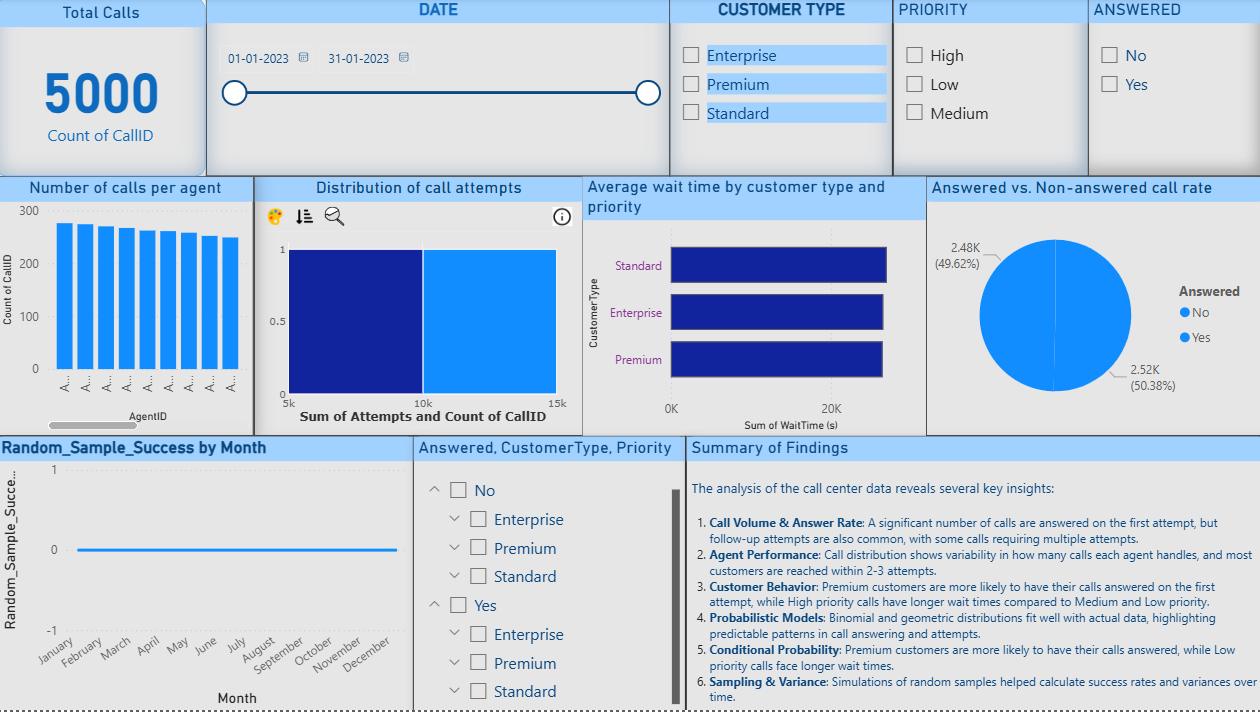

The page's visual inventory and layout, read from the dashboard file:
{"tool":"powerbi","page":{"name":"ANALYSIS","canvas":[1280,720],"ordinal":1},"visuals":[{"type":"histogramF963F133BA02A0B35D286F09F80E9C78","title":"Distribution of call attempts","fields":{"col_2":["Sum(Sheet1 (2).Attempts)"],"col_4":["CountNonNull(Sheet1 (2).CallID)"]},"box":[260,180,331.7,261.7],"z":0},{"type":"pieChart","title":"Answered vs. Non-answered call rate","fields":{"Category":["Sheet1 (2).Answered"],"Y":["CountNonNull(Sheet1 (2).CallID)"]},"box":[938.3,180,341.7,261.7],"z":1000},{"type":"columnChart","title":"Number of calls per agent","fields":{"Category":["Sheet1 (2).AgentID"],"Y":["CountNonNull(Sheet1 (2).CallID)"]},"box":[0,180,260,261.7],"z":2000},{"type":"clusteredBarChart","title":"Average wait time by customer type and priority","fields":{"Category":["CallData.CustomerType"],"Y":["Sum(CallData.WaitTime (s))"]},"box":[591.7,180,346.7,261.7],"z":3000},{"type":"lineChart","fields":{"Category":["CallData.Date.Variation.Date Hierarchy.Month","CallData.Date.Variation.Date Hierarchy.Day"],"Y":["CallData.Random_Sample_Success"]},"box":[0,441.7,421.7,278.3],"z":4000},{"type":"slicer","title":"Answered, CustomerType, Priority","fields":{"Values":["CallData.Answered","CallData.CustomerType","CallData.Priority"]},"box":[421.7,441.7,275,278.3],"z":5000},{"type":"actionButton","box":[0,0,100,40],"z":6000},{"type":"card","title":"Total Calls","fields":{"Values":["CountNonNull(CallData.CallID)"]},"box":[0,0,211.1,180],"z":7000},{"type":"slicer","title":"DATE","fields":{"Values":["CallData.Date"]},"box":[211.7,0,468.3,180],"z":8000},{"type":"slicer","title":"CUSTOMER TYPE","fields":{"Values":["CallData.CustomerType"]},"box":[680,0,225,180],"z":9000},{"type":"slicer","title":"PRIORITY","fields":{"Values":["CallData.Priority"]},"box":[905,0,198.3,180],"z":10000},{"type":"slicer","title":"ANSWERED","fields":{"Values":["CallData.Answered"]},"box":[1101.7,0,178.3,180],"z":11000},{"type":"textbox","title":"Summary of Findings","box":[696.7,441.7,583.3,278.3],"z":12000}]}

Visuals, with their boxes in screenshot pixels (x1, y1, x2, y2), scaled from the page's 1280x720 canvas onto the 1260x712 screenshot:
"Distribution of call attempts" histogramF963F133BA02A0B35D286F09F80E9C78: l=256, t=178, r=582, b=437
"Answered vs. Non-answered call rate" pieChart: l=924, t=178, r=1259, b=437
"Number of calls per agent" columnChart: l=0, t=178, r=256, b=437
"Average wait time by customer type and priority" clusteredBarChart: l=582, t=178, r=924, b=437
lineChart - CallData.Date.Variation.Date Hierarchy.Month x CallData.Date.Variation.Date Hierarchy.Day: l=0, t=437, r=415, b=711
"Answered, CustomerType, Priority" slicer: l=415, t=437, r=686, b=711
actionButton: l=0, t=0, r=98, b=40
"Total Calls" card: l=0, t=0, r=208, b=178
"DATE" slicer: l=208, t=0, r=669, b=178
"CUSTOMER TYPE" slicer: l=669, t=0, r=891, b=178
"PRIORITY" slicer: l=891, t=0, r=1086, b=178
"ANSWERED" slicer: l=1084, t=0, r=1259, b=178
"Summary of Findings" textbox: l=686, t=437, r=1259, b=711
